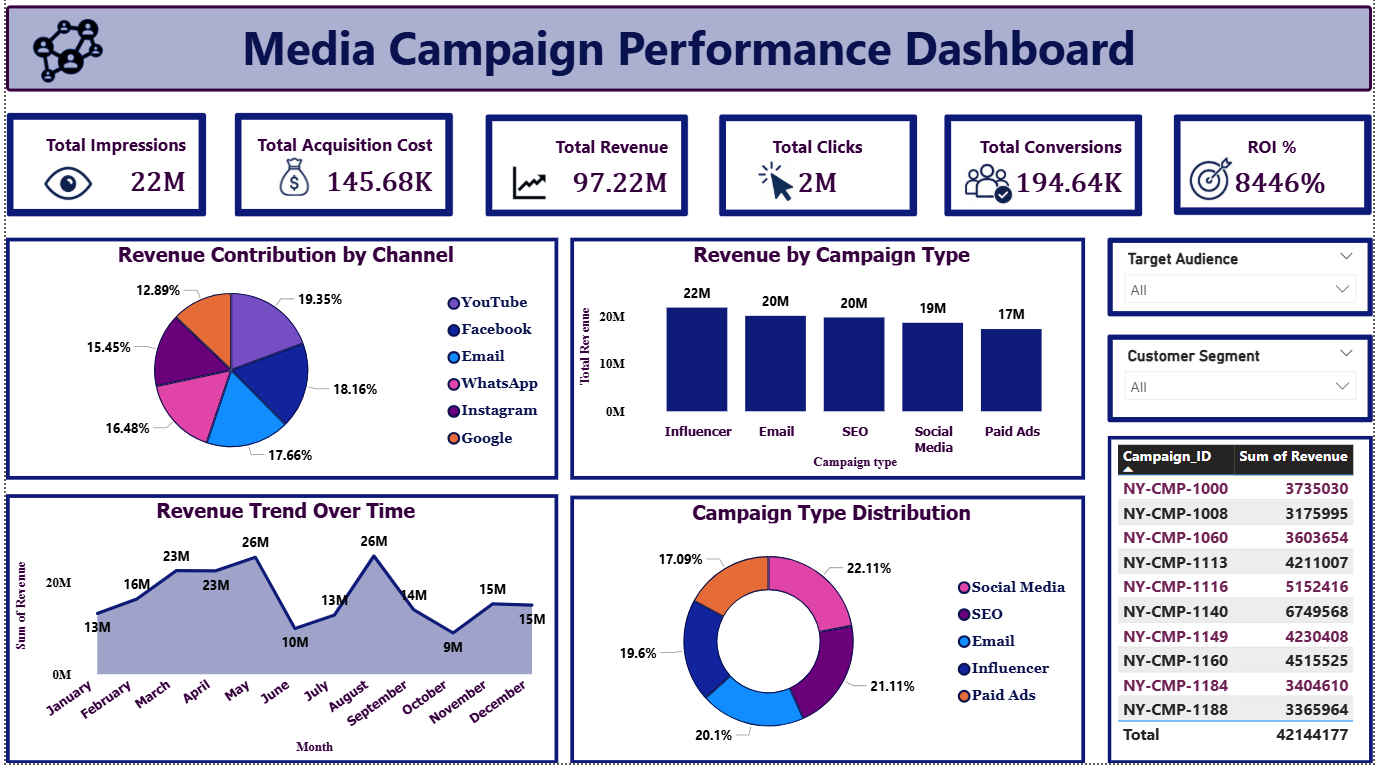

The page's visual inventory and layout, read from the dashboard file:
{"tool":"powerbi","page":{"name":"Page 1","canvas":[1280,720],"ordinal":0},"visuals":[{"type":"cardVisual","fields":{"Data":["Sum(mediacampaign campaign_summary.Total_Conversions)"]},"box":[878.1,111.8,186.8,97.1],"z":0},{"type":"cardVisual","fields":{"Data":["Sum(mediacampaign campaign_data.Impressions)"]},"box":[0,110.3,188.3,98.5],"z":1000},{"type":"cardVisual","fields":{"Data":["Sum(mediacampaign campaign_summary.Avg_ROI)"]},"box":[1092.8,111.8,186.8,95.6],"z":2000},{"type":"image","box":[0,151.5,114.7,47.1],"z":3000},{"type":"cardVisual","fields":{"Data":["Sum(mediacampaign campaign_data.Clicks)"]},"box":[667.8,111.8,186.8,97.1],"z":4000,"group":"g1"},{"type":"columnChart","title":"Revenue by Campaign Type","fields":{"Category":["mediacampaign campaign_summary.Campaign_Type"],"Y":["Sum(mediacampaign campaign_summary.Total_Revenue)"]},"box":[528,228,482.4,226.5],"z":4000},{"type":"cardVisual","fields":{"Data":["Sum(mediacampaign campaign_summary.Total_Revenue)"]},"box":[448.6,111.8,191.2,97.1],"z":5000,"group":"g3"},{"type":"pieChart","title":"Revenue Contribution by Channel","fields":{"Category":["mediacampaign campaign_data.Channel_Used"],"Y":["Sum(mediacampaign campaign_data.Revenue)"]},"box":[0,228.4,517,226.7],"z":5000},{"type":"areaChart","title":"Revenue Trend Over Time","fields":{"Category":["mediacampaign campaign_data.Date.Variation.Date Hierarchy.Month"],"Y":["Sum(mediacampaign campaign_data.Revenue)"]},"box":[0,468.9,517,252.5],"z":6000},{"type":"tableEx","fields":{"Values":["mediacampaign campaign_data.Campaign_ID","Sum(mediacampaign campaign_data.Revenue)"]},"box":[1031.1,413.3,248.6,307.4],"z":7000},{"type":"donutChart","title":"Campaign Type Distribution","fields":{"Category":["mediacampaign campaign_data.Campaign_Type"],"Y":["Count(mediacampaign campaign_data.Campaign_ID)"]},"box":[528,469.2,482.4,251.5],"z":8000},{"type":"cardVisual","fields":{"Data":["Sum(mediacampaign campaign_data.Acquisition_Cost)"]},"box":[213.3,110.3,205.9,98.5],"z":9000,"group":"g2"},{"type":"slicer","fields":{"Values":["mediacampaign campaign_data.Target_Audience"]},"box":[1031.1,228,248.6,73.5],"z":9000},{"type":"slicer","fields":{"Values":["mediacampaign campaign_data.Customer_Segment"]},"box":[1031.1,319.2,248.6,82.4],"z":10000},{"type":"textbox","box":[0,10.3,1279.6,80.9],"z":11000},{"type":"group","id":"g1","title":"Group 2","box":[667.8,111.8,186.8,97.1],"z":12000},{"type":"group","id":"g2","title":"Group 1","box":[213.3,110.3,205.9,98.5],"z":13000},{"type":"group","id":"g3","title":"Group 3","box":[448.6,111.8,191.2,97.1],"z":14000},{"type":"image","box":[464.6,150,51.5,48.4],"z":14000,"group":"g3"},{"type":"image","box":[243.8,146.6,51.5,47.1],"z":15000,"group":"g2"},{"type":"image","box":[891.3,151.5,58.8,51.5],"z":15000},{"type":"image","box":[1101.7,147.1,53,51.5],"z":16000},{"type":"image","box":[13.2,10.3,88.3,78],"z":17000},{"type":"image","box":[694.6,148.9,55.9,51.4],"z":17000,"group":"g1"}]}

Visuals, with their boxes in screenshot pixels (x1, y1, x2, y2), scaled from the page's 1280x720 canvas onto the 1378x771 screenshot:
cardVisual - Sum(mediacampaign campaign_summary.Total_Conversions): 945, 120, 1146, 224
cardVisual - Sum(mediacampaign campaign_data.Impressions): 0, 118, 203, 224
cardVisual - Sum(mediacampaign campaign_summary.Avg_ROI): 1176, 120, 1377, 222
image: 0, 162, 123, 213
cardVisual - Sum(mediacampaign campaign_data.Clicks): 719, 120, 920, 224
"Revenue by Campaign Type" columnChart: 568, 244, 1088, 487
cardVisual - Sum(mediacampaign campaign_summary.Total_Revenue): 483, 120, 689, 224
"Revenue Contribution by Channel" pieChart: 0, 245, 557, 487
"Revenue Trend Over Time" areaChart: 0, 502, 557, 770
tableEx - mediacampaign campaign_data.Campaign_ID x Sum(mediacampaign campaign_data.Revenue): 1110, 443, 1377, 770
"Campaign Type Distribution" donutChart: 568, 502, 1088, 770
cardVisual - Sum(mediacampaign campaign_data.Acquisition_Cost): 230, 118, 451, 224
slicer - mediacampaign campaign_data.Target_Audience: 1110, 244, 1377, 323
slicer - mediacampaign campaign_data.Customer_Segment: 1110, 342, 1377, 430
textbox: 0, 11, 1377, 98
"Group 2" group: 719, 120, 920, 224
"Group 1" group: 230, 118, 451, 224
"Group 3" group: 483, 120, 689, 224
image: 500, 161, 556, 212
image: 262, 157, 318, 207
image: 960, 162, 1023, 217
image: 1186, 158, 1243, 213
image: 14, 11, 109, 95
image: 748, 159, 808, 214
